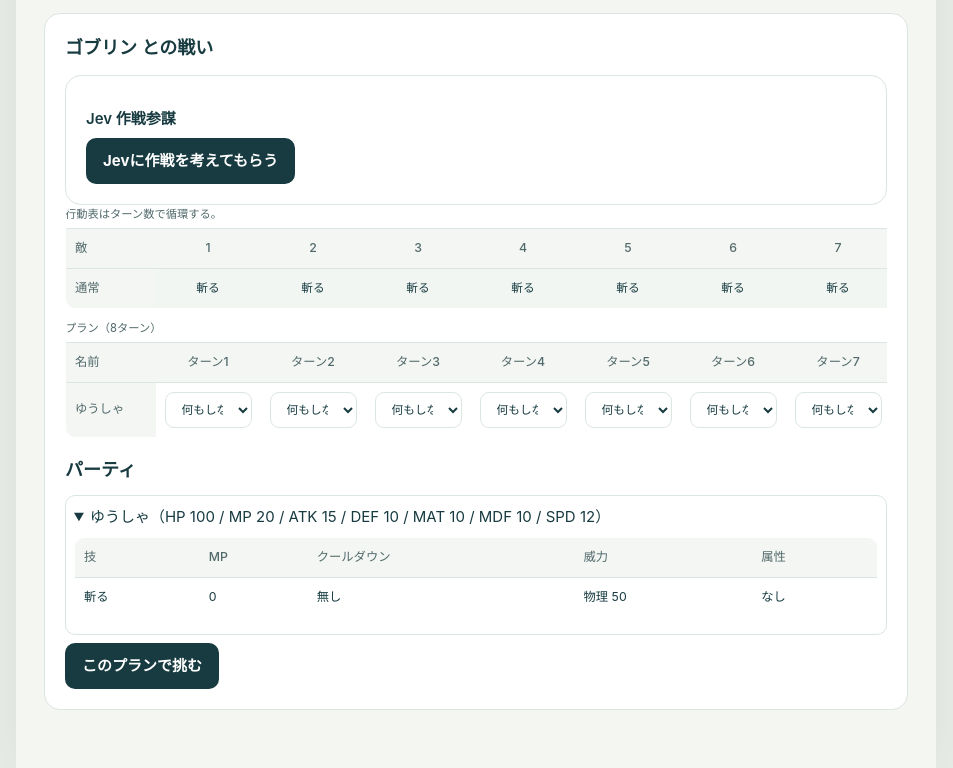
Test: 送信（設計書 §4.4） › ログがターンごとにまとまって出る。行動できなかった理由が出る
(page scrolled)
Check: the text "プラン（8ターン）" is shown, box [65, 321, 161, 335]
Click the button "このプランで挑む" at x=142, y=666, box [65, 643, 219, 689]
(page scrolled)
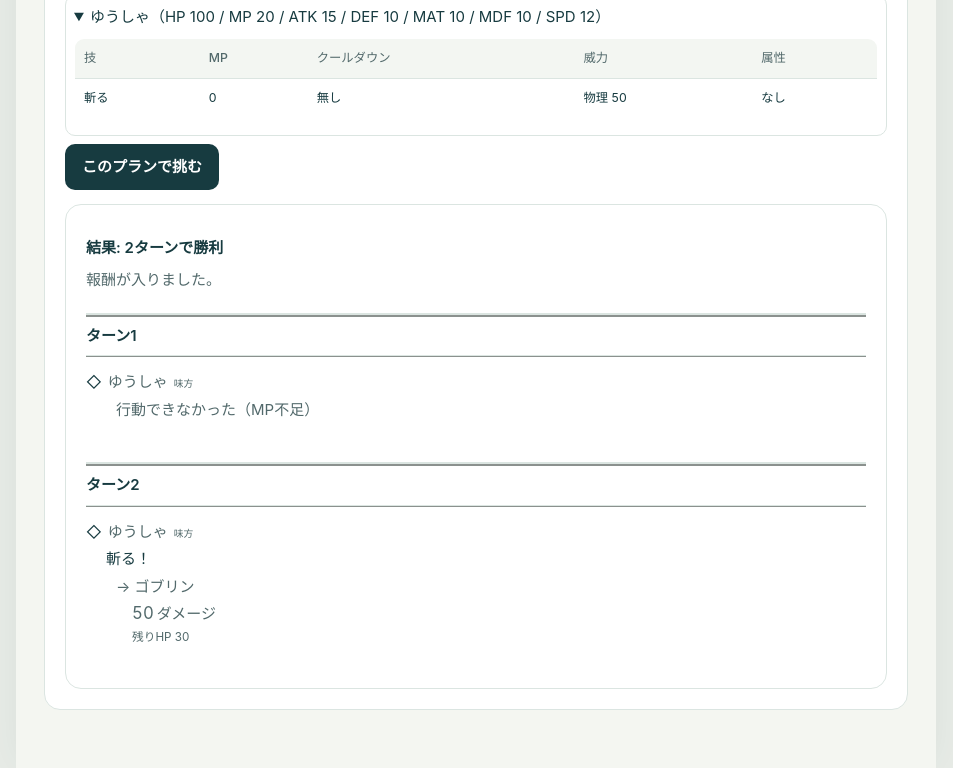
Check: the heading "ターン1" is shown, box [86, 317, 866, 357]
Check: the heading "ターン2" is shown, box [86, 466, 866, 507]
Check: the text "行動できなかった（MP不足）" is shown, box [116, 400, 319, 419]
